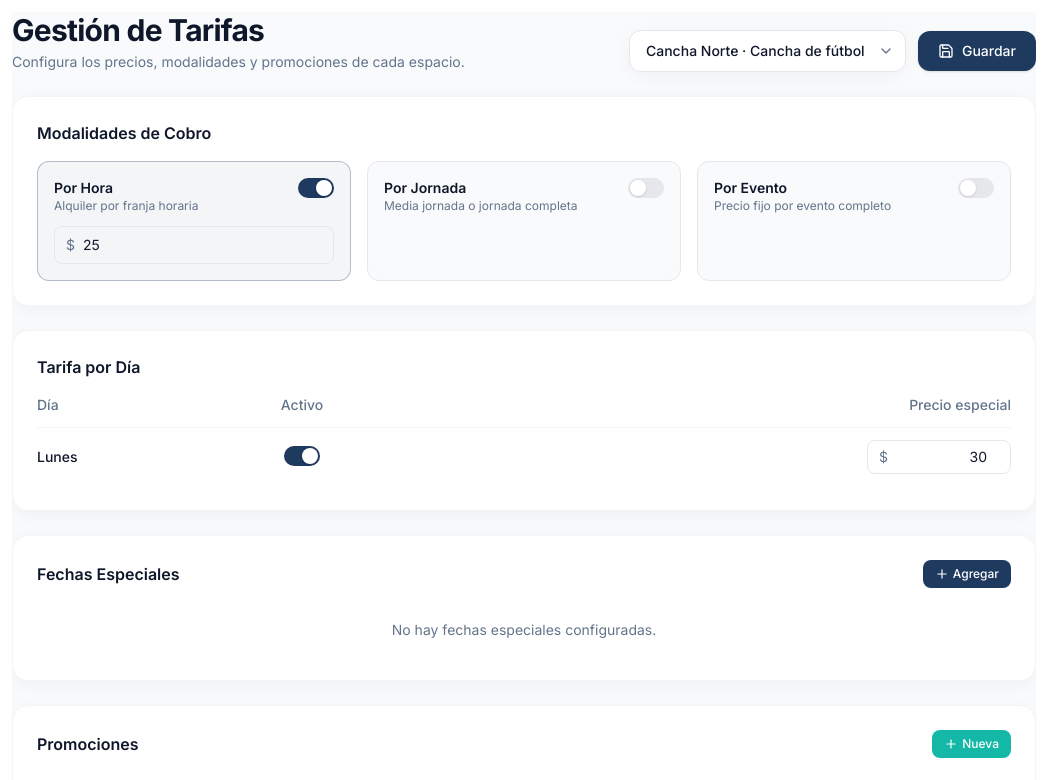
Test: guardado del tarifario › muestra el error del backend al guardar
This screenshot has width=1048, height=780.
Check: the heading "Modalidades de Cobro" is shown, box [37,123,211,143]
Click the button "Guardar": (977,51) [918,31,1036,71]
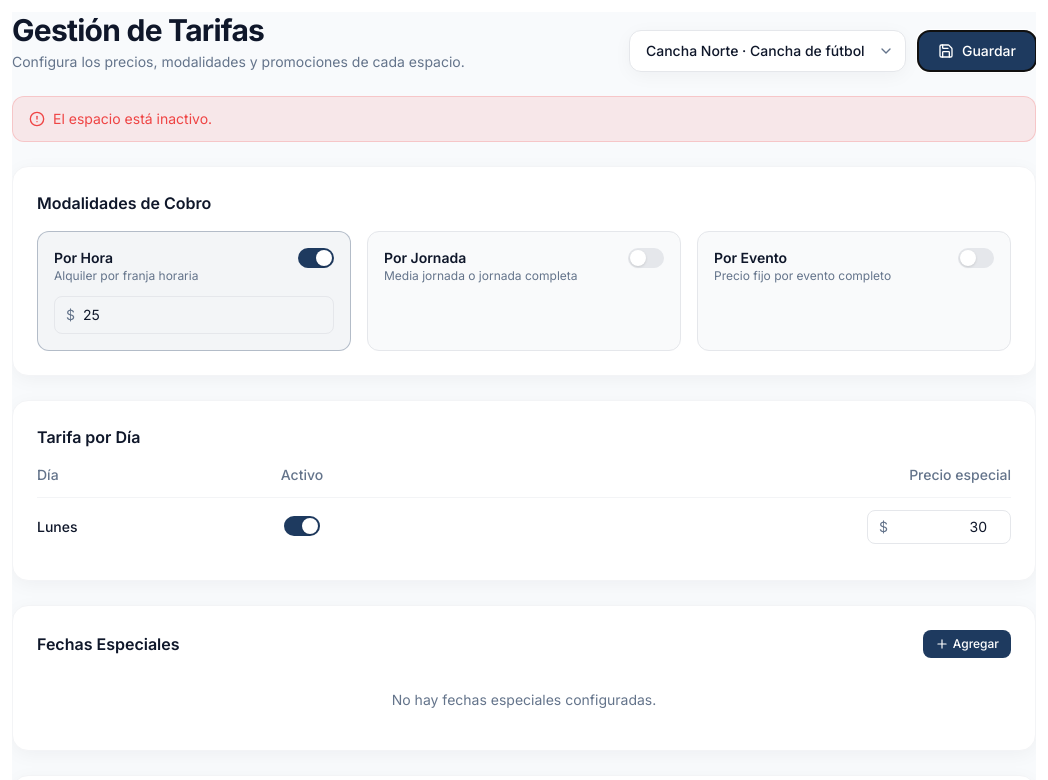
Check: the text "El espacio está inactivo." is shown, box [53,109,212,129]
